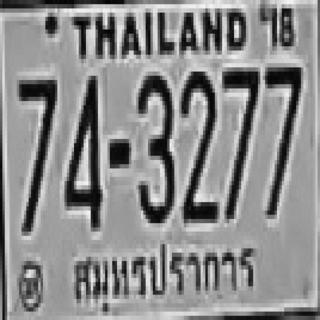N02: (179, 67, 215, 219)
N03: (136, 74, 172, 221)
N04: (62, 72, 100, 227)
N07: (17, 76, 55, 232), (221, 65, 257, 217), (264, 63, 300, 215)
P57: (69, 240, 258, 306)
